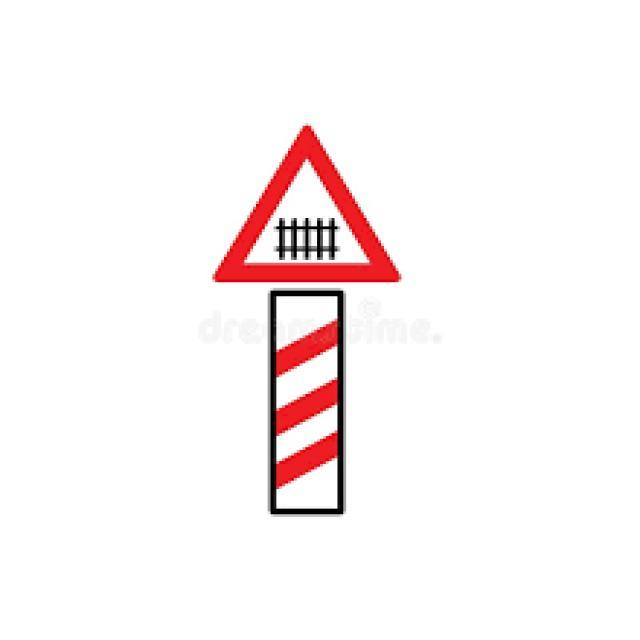guarded level crossing: (205, 115, 406, 288)
